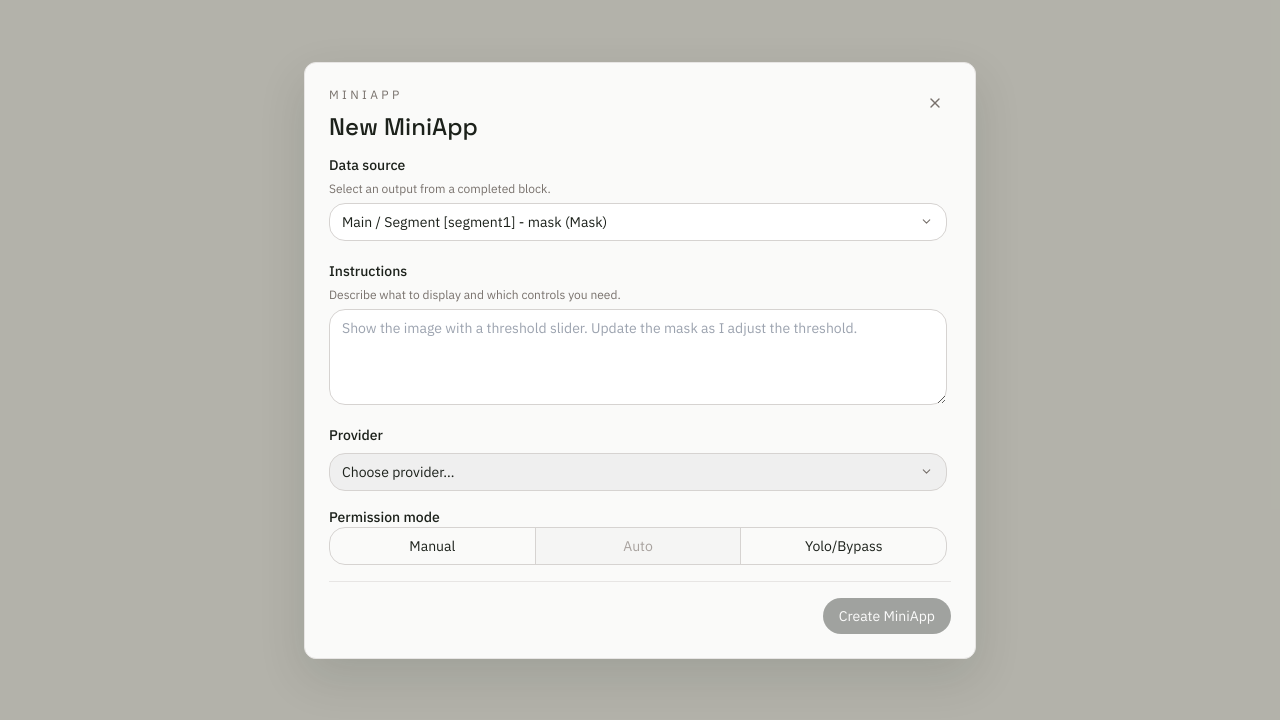
Test: CreateMiniAppDialog (ADR-054 FR-023 / FR-024 / FR-025) › starts with no provider or permission mode chosen and waits for both
The width and height of the screenshot is (1280, 720).
Check: the dropdown with test id "setup-provider-select" is enabled, box x1=329 y1=452 x2=947 y2=490
Replace the text in the text box with test id "miniapp-create-request" with "Threshold explorer please." at (638, 356), box x1=329 y1=308 x2=947 y2=404
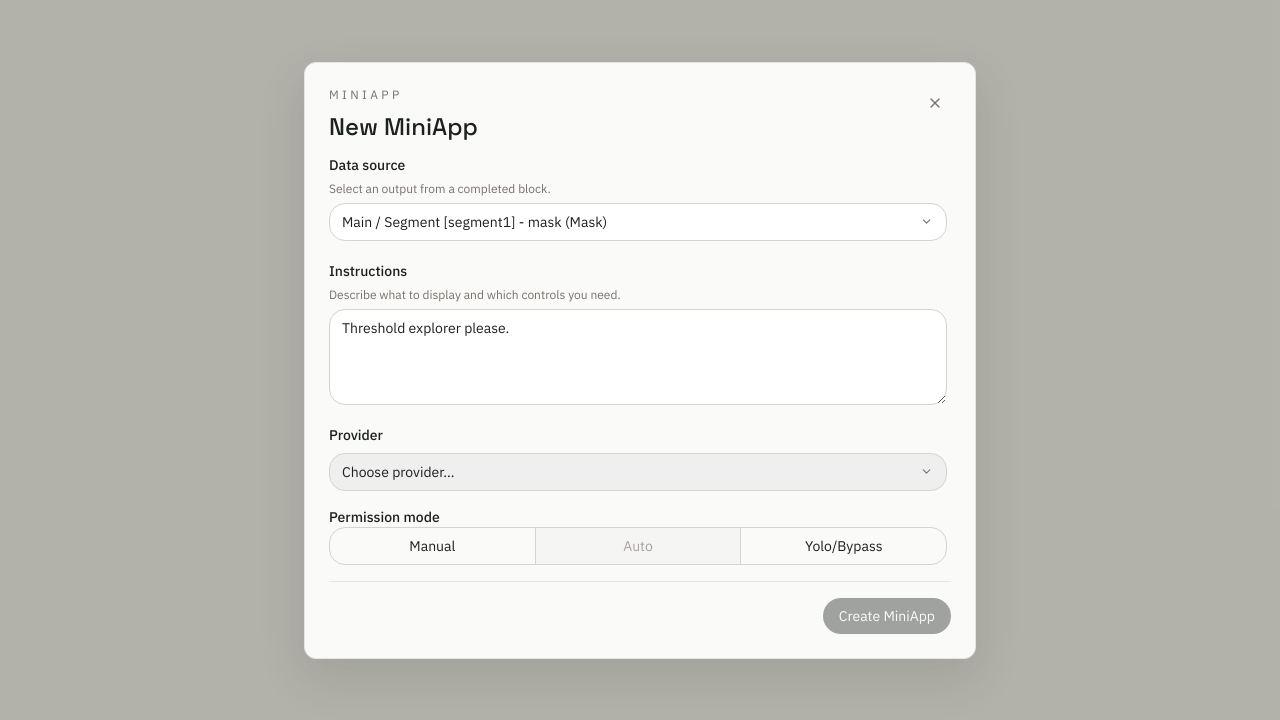
Check: the button with test id "miniapp-create-submit" is disabled, box x1=823 y1=598 x2=951 y2=634
Select "Claude Code v9.9.9" in the dropdown with test id "setup-provider-select" at (638, 472), box x1=329 y1=452 x2=947 y2=490
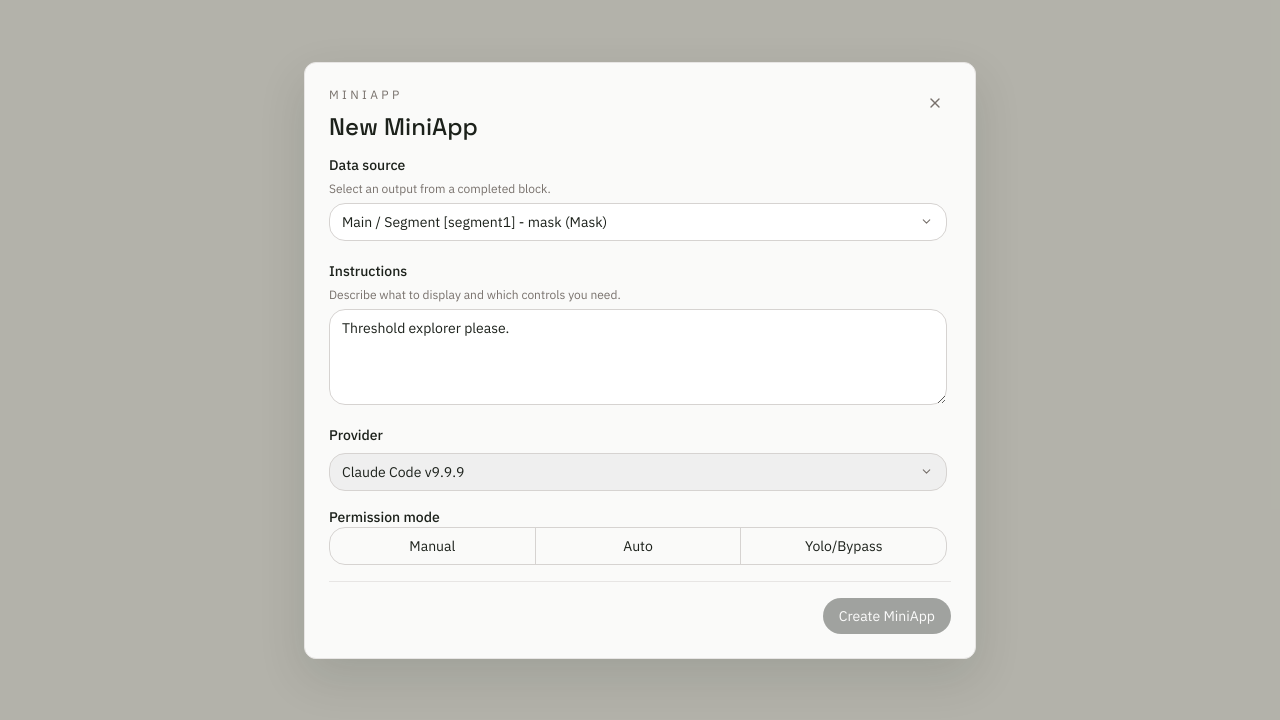
Check: the button with test id "miniapp-create-submit" is disabled, box x1=823 y1=598 x2=951 y2=634
Click the radio button with test id "setup-permission-safe" at (432, 546), box x1=330 y1=528 x2=535 y2=564
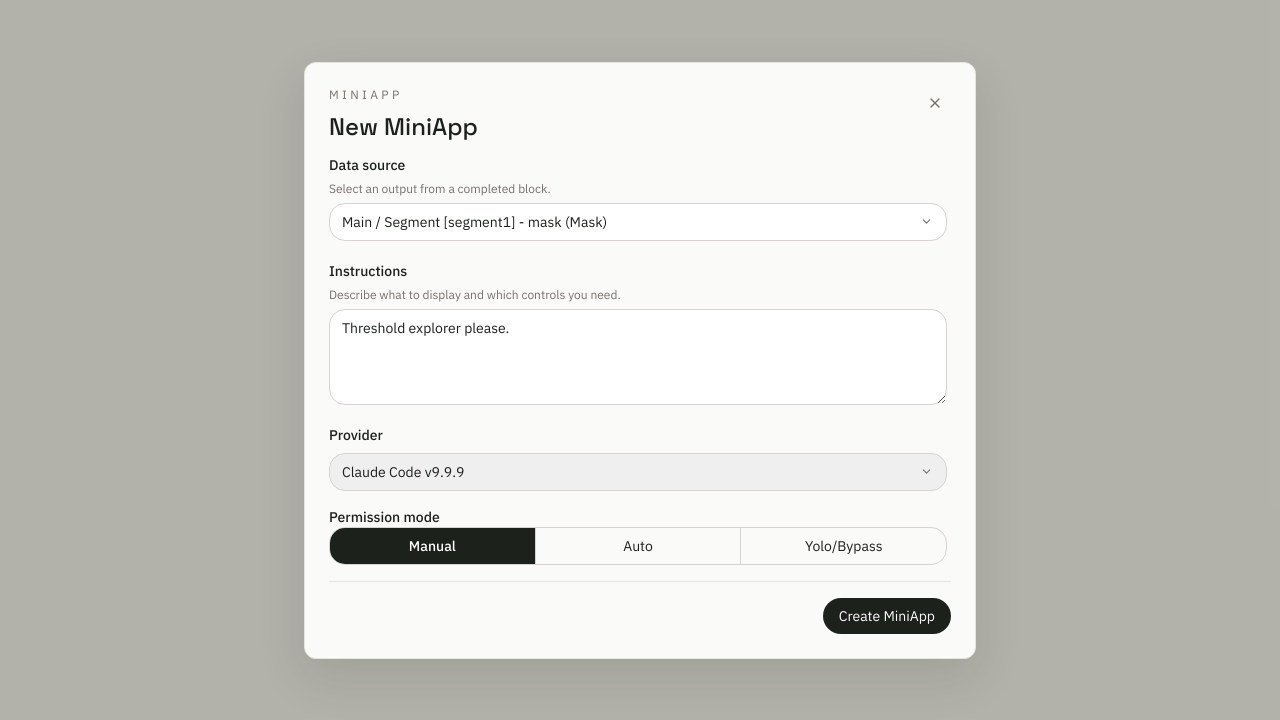
Check: the button with test id "miniapp-create-submit" is enabled, box x1=823 y1=598 x2=951 y2=634
